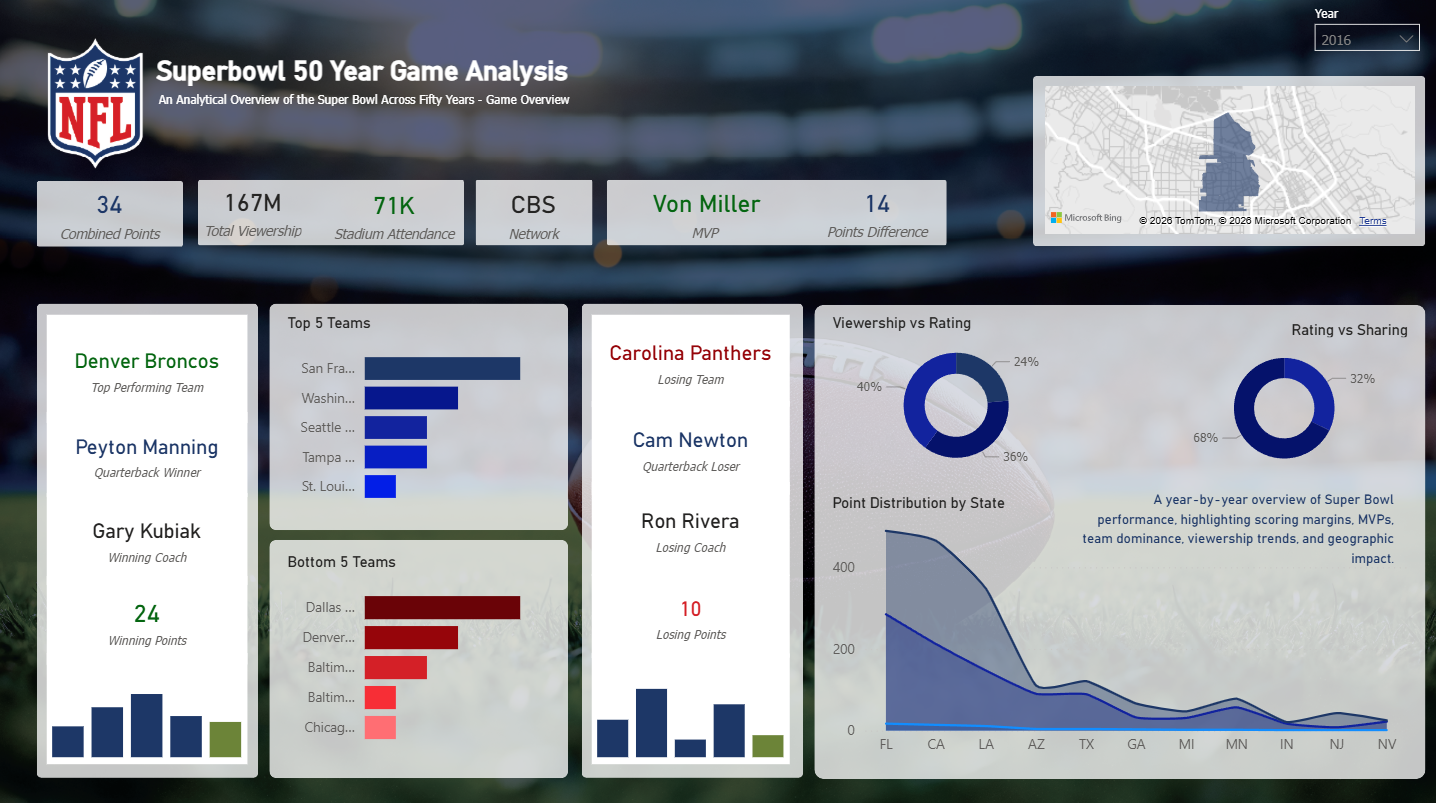

This screenshot's page, from the dashboard's own definition file:
{"tool":"powerbi","page":{"name":"Game Overview","canvas":[1280,720],"ordinal":0},"visuals":[{"type":"image","box":[0,0,1280.2,720.6],"z":0},{"type":"textbox","box":[135.3,47.5,430.7,41.5],"z":1000},{"type":"shape","box":[34,272.9,196.8,421.7],"z":2000},{"type":"shape","box":[34,164,130,58.6],"z":3000},{"type":"slicer","fields":{"Values":["super_bowls_final.date.Variation.Date Hierarchy.Year"]},"box":[1165.4,19.9,103.1,36.3],"z":4000},{"type":"card","fields":{"Values":["Sum(super_bowls_final.combined_pts)"]},"box":[39.8,162.8,118.3,58.6],"z":5000},{"type":"shape","box":[178,162.8,236.6,58.6],"z":6000},{"type":"card","fields":{"Values":["Measures_Table.Total Super Bowl Viewership"]},"box":[178,161.6,97.2,58.6],"z":7000},{"type":"card","fields":{"Values":["Measures_Table.Total In-Stadium Attendance"]},"box":[290.5,162.8,124.2,59.7],"z":8000},{"type":"shape","box":[424,162.8,104.2,58.6],"z":9000},{"type":"shape","box":[241.3,272.9,265.9,201.5],"z":10000},{"type":"card","fields":{"Values":["Min(tv_final_fixed.network)"]},"box":[433.4,162.8,85.5,58.6],"z":11000},{"type":"shape","box":[541.1,162.8,302.2,58.6],"z":12000},{"type":"card","fields":{"Values":["Measures_Table.MVP (Selected Year)"]},"box":[534.4,163.3,191.1,56.7],"z":13000},{"type":"card","fields":{"Values":["Sum(super_bowls_final.difference_pts)"]},"box":[720.4,161.6,123,59.7],"z":14000},{"type":"textbox","box":[137.5,76.4,491.4,42.3],"z":15000},{"type":"card","fields":{"Values":["Measures_Table.Top Performing Team"]},"box":[43.3,283.5,178,96],"z":16000},{"type":"card","fields":{"Values":["Min(super_bowls_final.coach_winner)"]},"box":[43.3,442.8,178,80.8],"z":17000},{"type":"card","fields":{"Values":["Min(super_bowls_final.qb_winner_1)"]},"box":[43.3,370.1,178,75],"z":18000},{"type":"card","fields":{"Values":["Sum(super_bowls_final.winning_pts)"]},"box":[43.3,515.4,178,78.5],"z":19000},{"type":"columnChart","fields":{"Category":["Rolling Year Offset.Offset"],"Y":["Measures_Table.Winning Points (Rolling 5 Columns)"]},"box":[43.3,584.5,178,98.4],"z":20000},{"type":"shape","box":[518.9,272.9,196.8,421.7],"z":21000},{"type":"card","fields":{"Values":["Min(super_bowls_final.team_loser)"]},"box":[528.3,283.5,175.7,82],"z":22000},{"type":"card","fields":{"Values":["Min(super_bowls_final.qb_loser_1)"]},"box":[528.3,359.6,175.7,83.2],"z":23000},{"type":"card","fields":{"Values":["Min(super_bowls_final.coach_loser)"]},"box":[528.3,432.2,175.7,83.2],"z":24000},{"type":"card","fields":{"Values":["Sum(super_bowls_final.losing_pts)"]},"box":[528.3,514.2,175.7,73.8],"z":25000},{"type":"columnChart","fields":{"Category":["Rolling Year Offset.Offset"],"Y":["Measures_Table.Losing Points (Rolling 5 Columns)"]},"box":[528.3,584.5,175.7,98.4],"z":26000},{"type":"barChart","title":"Top 5 Teams","fields":{"Y":["CountNonNull(superbowl_final_dates_fixed.Winner Pts)"],"Category":["superbowl_final_dates_fixed.Winner"]},"box":[251.8,283.5,244.8,179.2],"z":27000},{"type":"shape","box":[241.3,483.7,265.9,212],"z":28000},{"type":"shape","box":[725,274.1,543.5,421.7],"z":29000},{"type":"barChart","title":"Bottom 5 Teams","fields":{"Y":["CountNonNull(superbowl_final_dates_fixed.Loser Pts)"],"Category":["superbowl_final_dates_fixed.Winner"]},"box":[251.8,495.5,244.8,181.6],"z":30000},{"type":"donutChart","title":"Viewership vs Rating","fields":{"Y":["Sum(tv_final_fixed.rating_household)","Sum(tv_final_fixed.share_household)","Sum(tv_final_fixed.share_18_49)"]},"box":[737.1,283.3,230.4,147],"z":31000},{"type":"donutChart","title":"Rating vs Sharing","fields":{"Y":["Sum(tv_final_fixed.rating_18_49)","Sum(tv_final_fixed.share_18_49)"]},"box":[1028.7,289.2,229.2,141.1],"z":32000},{"type":"shape","box":[920,71.2,348.8,151.2],"z":33000},{"type":"filledMap","fields":{"Category":["super_bowls_final.city"]},"box":[925.6,75.6,338.9,141.1],"z":34000},{"type":"areaChart","title":"Point Distribution by State","fields":{"Category":["superbowl_final_dates_fixed.State Abbrev"],"Y":["CountNonNull(superbowl_final_dates_fixed.Stadium)","Sum(superbowl_final_dates_fixed.Loser Pts)","Sum(superbowl_final_dates_fixed.Winner Pts)"]},"box":[737.1,443.2,520.8,239.8],"z":35000},{"type":"textbox","box":[958.1,432.6,288,83.5],"z":36000},{"type":"textbox","box":[1165,0,103.5,37.6],"z":37000}]}

Visuals, with their boxes in screenshot pixels (x1, y1, x2, y2), scaled from the page's 1280x720 canvas onto the 1436x803 screenshot:
image: crop(0, 0, 1435, 802)
textbox: crop(152, 53, 635, 99)
shape: crop(38, 304, 259, 775)
shape: crop(38, 183, 184, 248)
slicer - super_bowls_final.date.Variation.Date Hierarchy.Year: crop(1307, 22, 1423, 63)
card - Sum(super_bowls_final.combined_pts): crop(45, 182, 177, 247)
shape: crop(200, 182, 465, 247)
card - Measures_Table.Total Super Bowl Viewership: crop(200, 180, 309, 246)
card - Measures_Table.Total In-Stadium Attendance: crop(326, 182, 465, 248)
shape: crop(476, 182, 593, 247)
shape: crop(271, 304, 569, 529)
card - Min(tv_final_fixed.network): crop(486, 182, 582, 247)
shape: crop(607, 182, 946, 247)
card - Measures_Table.MVP (Selected Year): crop(600, 182, 814, 245)
card - Sum(super_bowls_final.difference_pts): crop(808, 180, 946, 247)
textbox: crop(154, 85, 706, 132)
card - Measures_Table.Top Performing Team: crop(49, 316, 248, 423)
card - Min(super_bowls_final.coach_winner): crop(49, 494, 248, 584)
card - Min(super_bowls_final.qb_winner_1): crop(49, 413, 248, 496)
card - Sum(super_bowls_final.winning_pts): crop(49, 575, 248, 662)
columnChart - Rolling Year Offset.Offset x Measures_Table.Winning Points (Rolling 5 Columns): crop(49, 652, 248, 762)
shape: crop(582, 304, 803, 775)
card - Min(super_bowls_final.team_loser): crop(593, 316, 790, 408)
card - Min(super_bowls_final.qb_loser_1): crop(593, 401, 790, 494)
card - Min(super_bowls_final.coach_loser): crop(593, 482, 790, 575)
card - Sum(super_bowls_final.losing_pts): crop(593, 573, 790, 656)
columnChart - Rolling Year Offset.Offset x Measures_Table.Losing Points (Rolling 5 Columns): crop(593, 652, 790, 762)
"Top 5 Teams" barChart: crop(282, 316, 557, 516)
shape: crop(271, 539, 569, 776)
shape: crop(813, 306, 1423, 776)
"Bottom 5 Teams" barChart: crop(282, 553, 557, 755)
"Viewership vs Rating" donutChart: crop(827, 316, 1085, 480)
"Rating vs Sharing" donutChart: crop(1154, 323, 1411, 480)
shape: crop(1032, 79, 1423, 248)
filledMap - super_bowls_final.city: crop(1038, 84, 1419, 242)
"Point Distribution by State" areaChart: crop(827, 494, 1411, 762)
textbox: crop(1075, 482, 1398, 576)
textbox: crop(1307, 0, 1423, 42)
